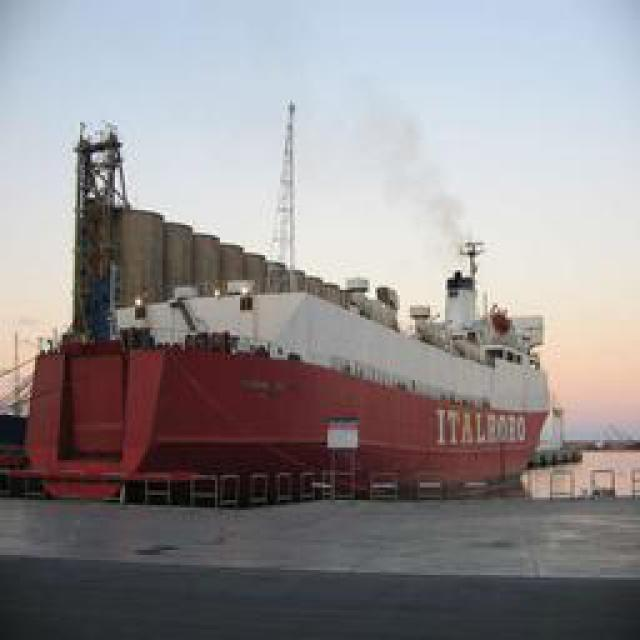Ship: (1, 204, 561, 499)
